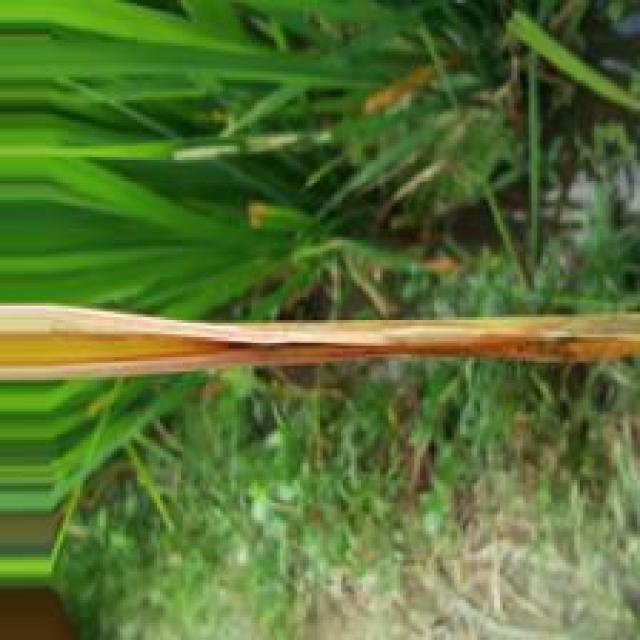Leaf_Scald: (0, 304, 640, 380)
